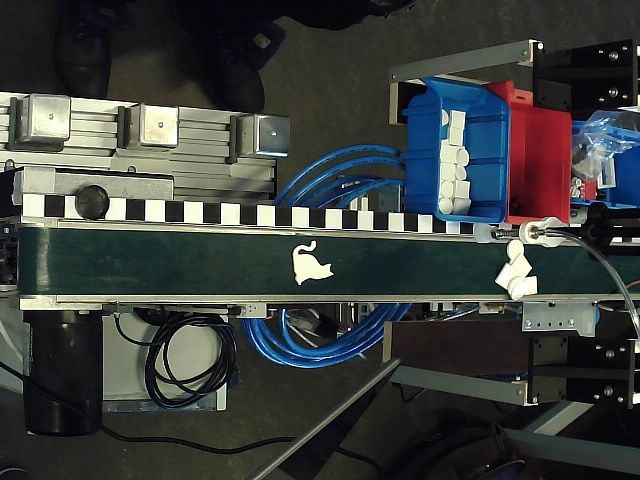cat: (291, 240, 335, 286)
